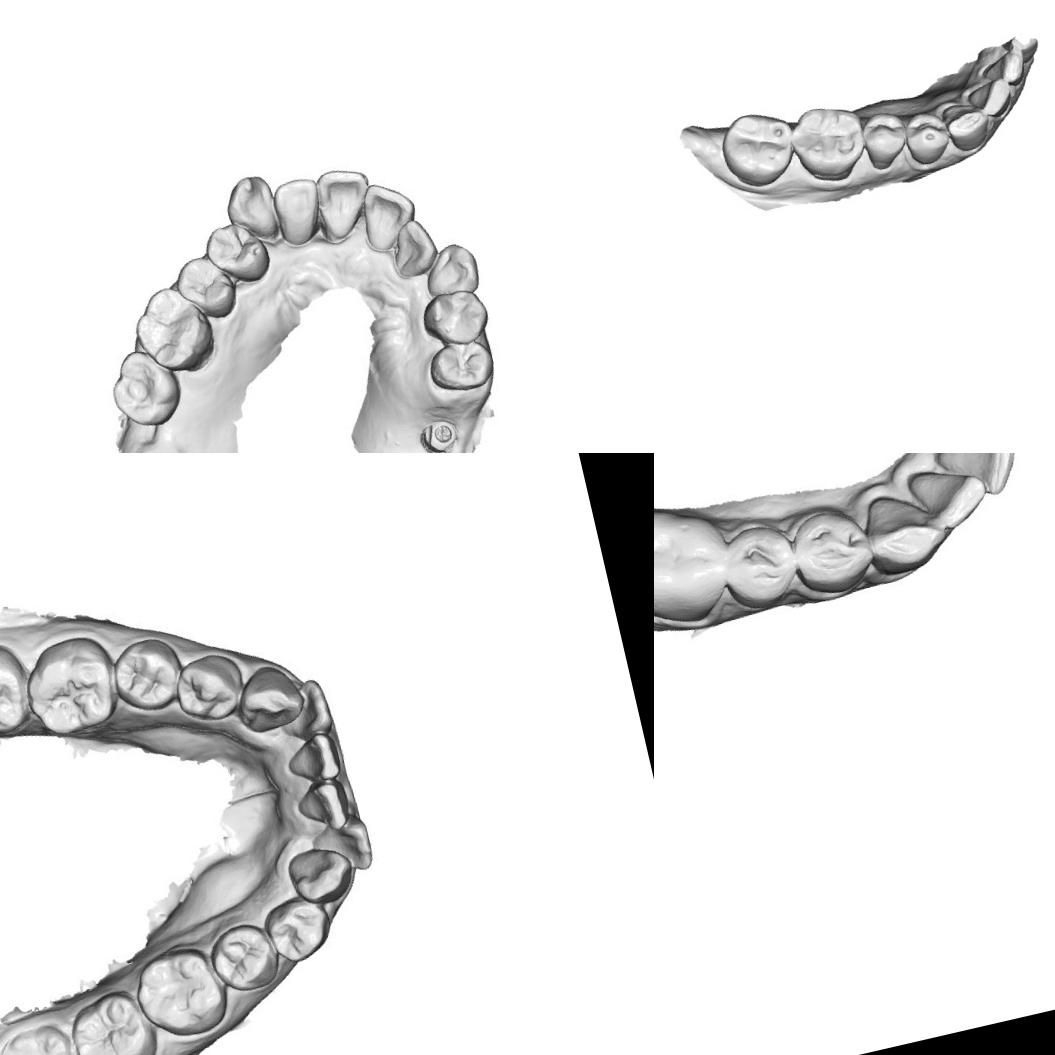canine: (860, 486, 955, 584), (237, 657, 306, 739), (218, 170, 285, 250), (288, 842, 354, 906), (417, 239, 482, 302), (940, 96, 997, 156)
implant: (419, 416, 462, 453)
incisor: (908, 455, 992, 540), (310, 160, 378, 242), (352, 176, 422, 250), (933, 453, 1023, 503), (284, 730, 348, 793), (280, 676, 339, 743), (384, 212, 442, 280), (268, 176, 327, 242), (318, 811, 376, 876), (294, 774, 352, 829), (974, 44, 1030, 93), (964, 75, 1018, 122)
molar: (654, 495, 738, 634), (17, 630, 124, 736), (131, 946, 230, 1046), (124, 278, 221, 380), (784, 98, 874, 190), (714, 104, 804, 195), (102, 342, 189, 435), (66, 987, 161, 1055), (0, 640, 39, 742), (0, 1019, 85, 1055)
premolar: (782, 498, 876, 594), (714, 516, 806, 610), (170, 640, 246, 728), (260, 888, 337, 968), (111, 631, 181, 715), (170, 247, 244, 326), (417, 284, 494, 355), (200, 216, 274, 288), (210, 918, 282, 992), (426, 334, 498, 398), (857, 106, 915, 172), (899, 104, 955, 168)
